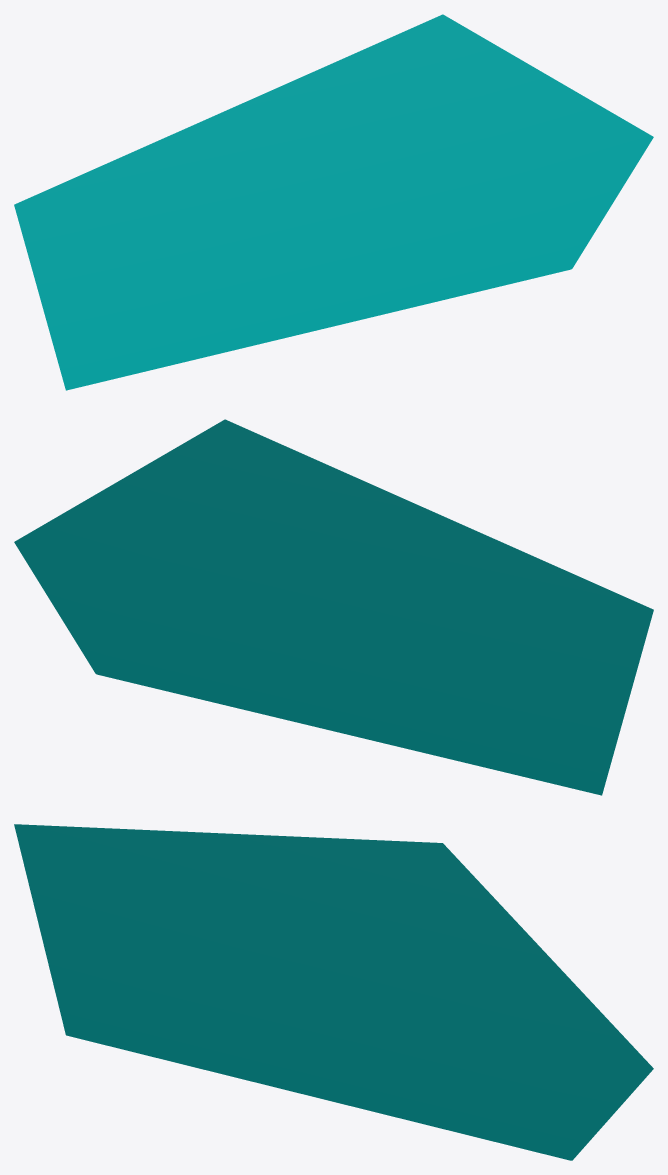
Rendered from uddmcgbia_VarD_LOD2.fbx.
3 views of the same model, one above another, from view 1: azimuth 30°, elevation 25°; view 2: azimuth 150°, elevation 25°; view 3: azimuth 330°, elevation 25° (orthographic).
Parts seen in each view (by area): view 1: _b811_VarD_LOD4; view 2: _b811_VarD_LOD4; view 3: _b811_VarD_LOD4.
Boxes of the visible parts, <box> form: _b811_VarD_LOD4: <box>14,14,653,390</box>; _b811_VarD_LOD4: <box>14,419,653,795</box>; _b811_VarD_LOD4: <box>14,824,653,1160</box>.
Bounding box in the file's own units: 15.98 × 6.84 × 0.
